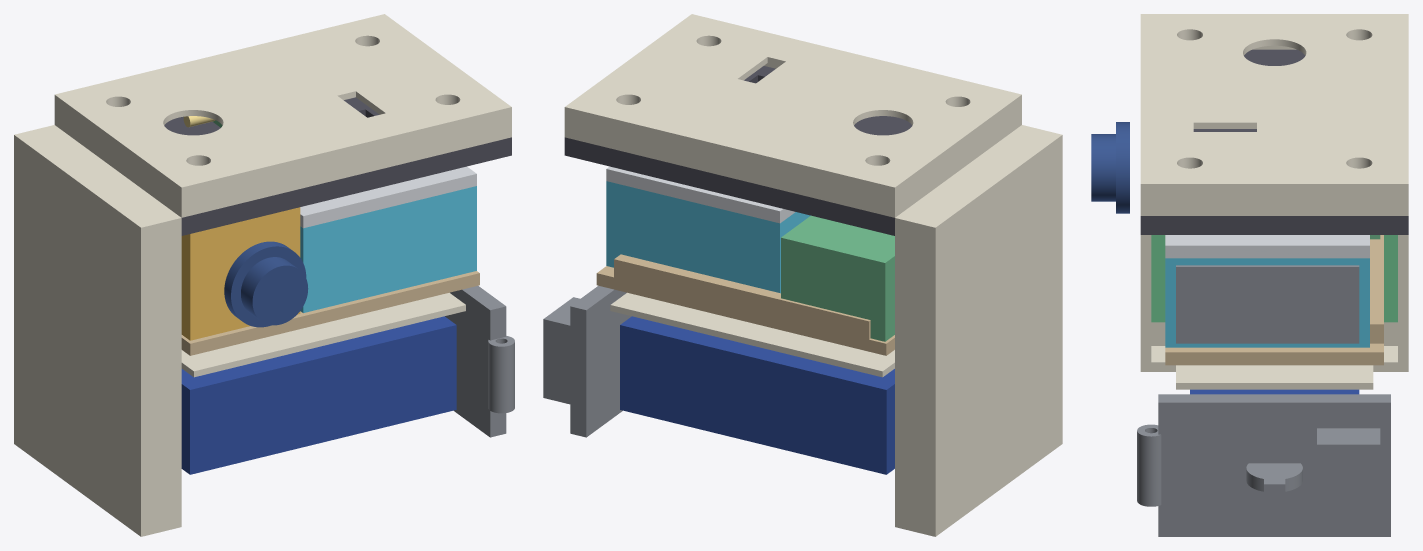
Rendered from sender_exploded.glb.
3 renders of one model, left to right at view 1: azimuth 30°, elevation 25°; view 2: azimuth 150°, elevation 25°; view 3: azimuth 270°, elevation 25°, orthographic. The views are drawn at different scales.
Visible parts, largest first — view 1: =>[0:1:1:41], =>[0:1:1:42], =>[0:1:1:12], =>[0:1:1:5], =>[0:1:1:9], =>[0:1:1:40], =>[0:1:1:3], =>[0:1:1:23], =>[0:1:1:10], =>[0:1:1:13], =>[0:1:1:7]; view 2: =>[0:1:1:41], =>[0:1:1:42], =>[0:1:1:12], =>[0:1:1:5], =>[0:1:1:13], =>[0:1:1:40], =>[0:1:1:3], =>[0:1:1:17], =>[0:1:1:23], =>[0:1:1:15], =>[0:1:1:7]; view 3: =>[0:1:1:42], =>[0:1:1:40], =>[0:1:1:37], =>[0:1:1:3], =>[0:1:1:13], =>[0:1:1:23], =>[0:1:1:7], =>[0:1:1:41], =>[0:1:1:5], =>[0:1:1:10], =>[0:1:1:19], =>[0:1:1:12].
Boxes of the visible parts, x1,y1,x2,y2 form: =>[0:1:1:41]: [14, 125, 181, 536]; =>[0:1:1:42]: [54, 14, 511, 217]; =>[0:1:1:12]: [181, 316, 456, 474]; =>[0:1:1:5]: [300, 186, 476, 312]; =>[0:1:1:9]: [181, 207, 300, 340]; =>[0:1:1:40]: [445, 286, 514, 437]; =>[0:1:1:3]: [164, 97, 511, 235]; =>[0:1:1:23]: [181, 292, 465, 377]; =>[0:1:1:10]: [224, 241, 308, 327]; =>[0:1:1:13]: [181, 271, 479, 355]; =>[0:1:1:7]: [300, 166, 476, 228]; =>[0:1:1:41]: [895, 125, 1062, 536]; =>[0:1:1:42]: [564, 14, 1021, 217]; =>[0:1:1:12]: [620, 316, 894, 474]; =>[0:1:1:5]: [606, 181, 810, 293]; =>[0:1:1:13]: [596, 254, 894, 355]; =>[0:1:1:40]: [543, 285, 631, 437]; =>[0:1:1:3]: [564, 66, 912, 235]; =>[0:1:1:17]: [781, 215, 894, 293]; =>[0:1:1:23]: [610, 292, 894, 377]; =>[0:1:1:15]: [781, 268, 894, 341]; =>[0:1:1:7]: [606, 166, 795, 223]; =>[0:1:1:42]: [1140, 14, 1408, 215]; =>[0:1:1:40]: [1137, 394, 1390, 536]; =>[0:1:1:37]: [1176, 265, 1359, 343]; =>[0:1:1:3]: [1140, 49, 1408, 234]; =>[0:1:1:13]: [1165, 235, 1383, 365]; =>[0:1:1:23]: [1176, 365, 1373, 389]; =>[0:1:1:7]: [1165, 235, 1369, 258]; =>[0:1:1:41]: [1140, 235, 1408, 371]; =>[0:1:1:5]: [1165, 258, 1369, 347]; =>[0:1:1:10]: [1091, 122, 1129, 213]; =>[0:1:1:19]: [1151, 235, 1397, 322]; =>[0:1:1:12]: [1190, 389, 1359, 394].
Bounding box in the file's own units: 0.0715 × 0.056 × 0.045.
